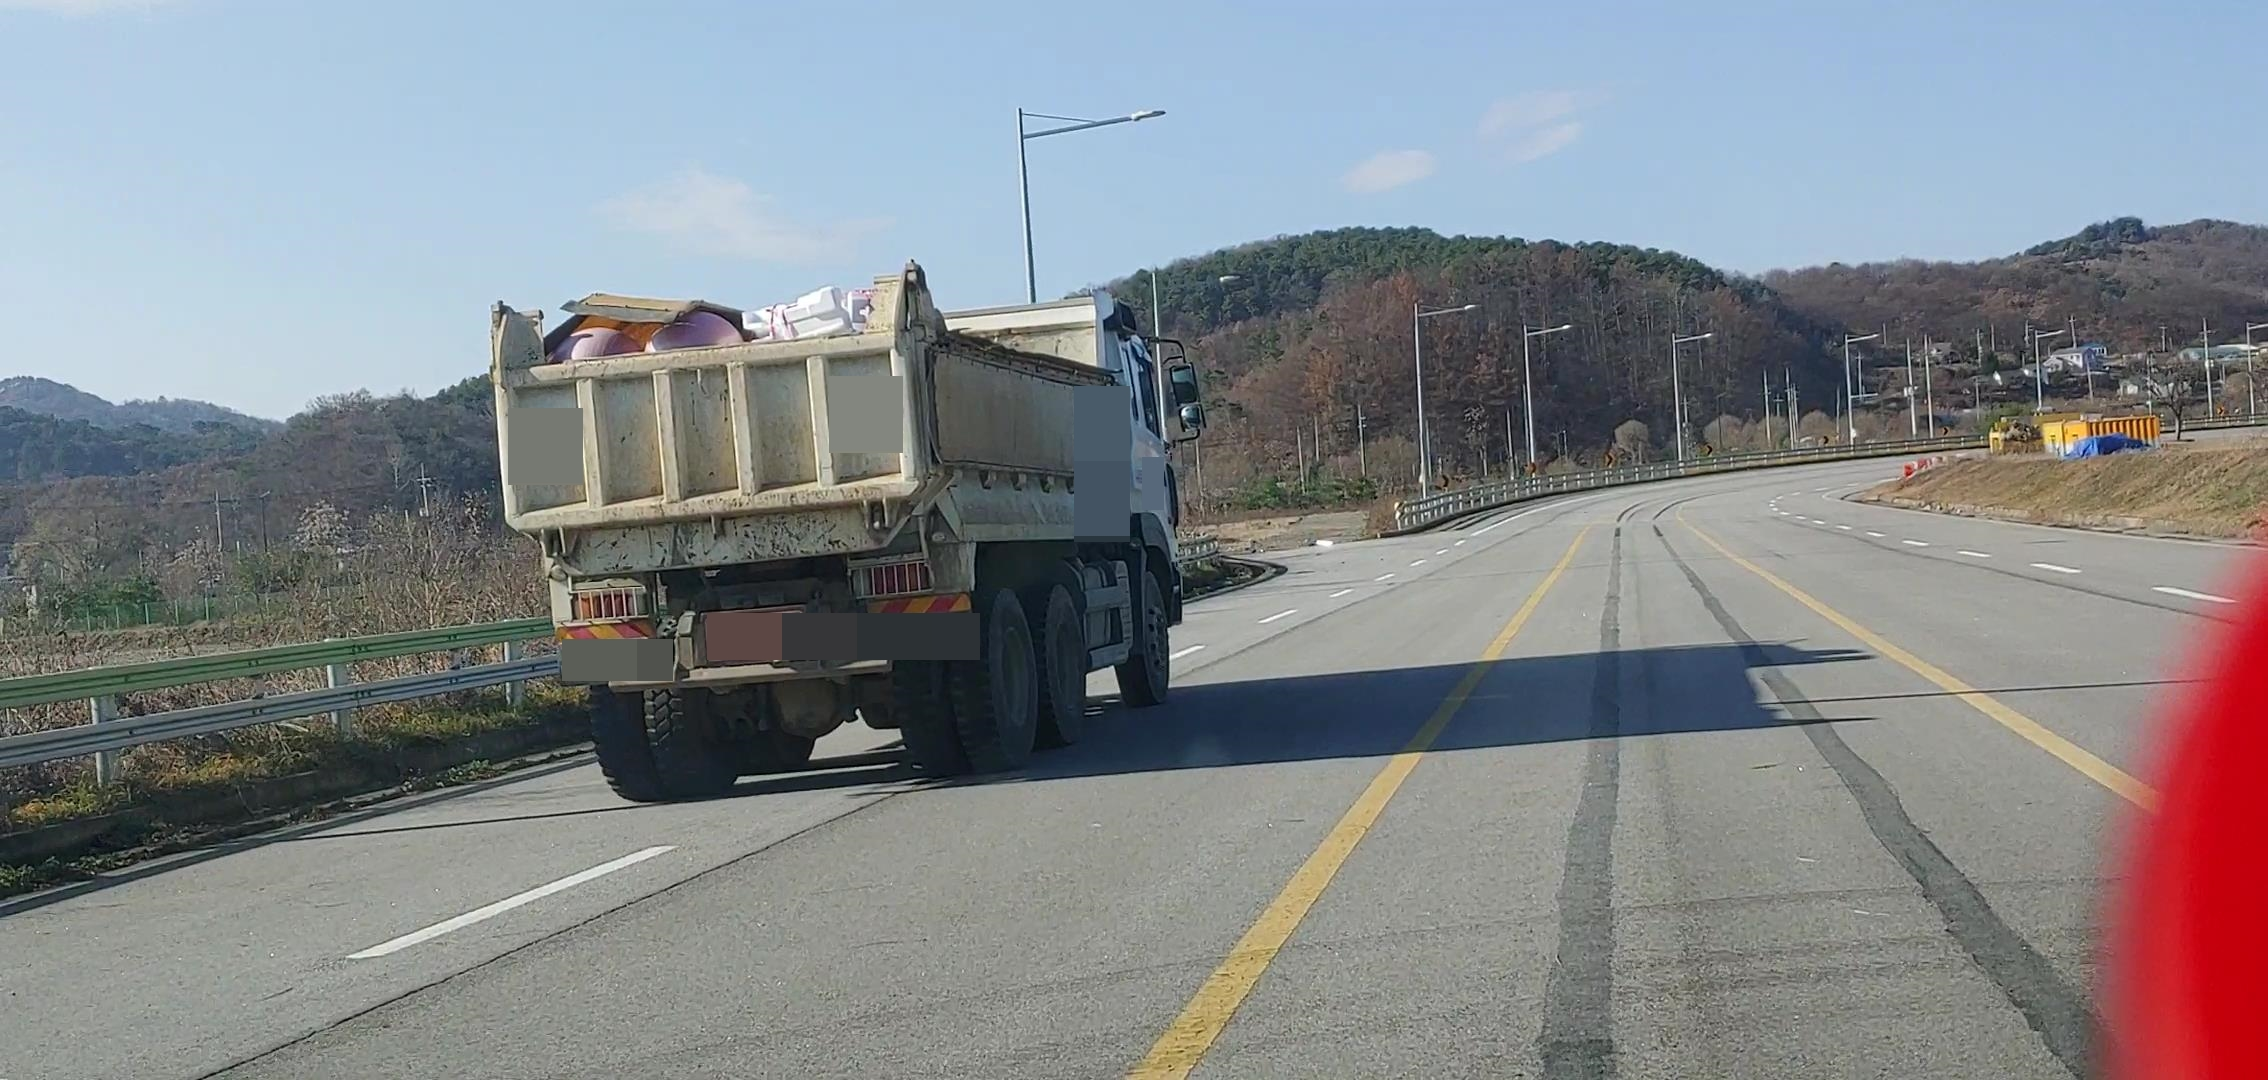불법차량: (490, 259, 1208, 800)
